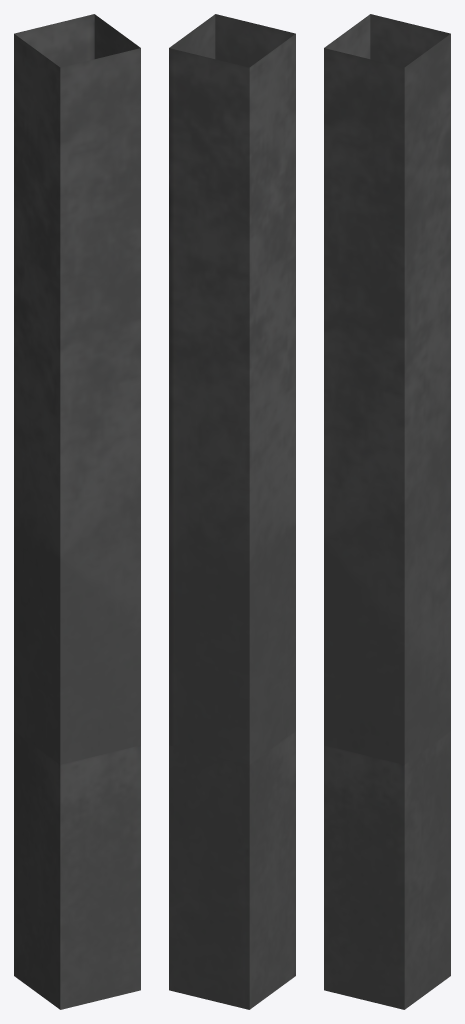
Rendered from pole_roof_50cm.obj.
The picture shows the model from 3 angles, left to right: view 1: azimuth 30°, elevation 25°; view 2: azimuth 150°, elevation 25°; view 3: azimuth 330°, elevation 25°; orthographic projection.
Visible parts, largest first — view 1: pole_r50, pole_end_r50; view 2: pole_r50, pole_end_r50; view 3: pole_r50, pole_end_r50.
Part boxes in pixels (x1,y1,x2,y2): pole_r50: (14, 14, 140, 764); pole_end_r50: (14, 731, 140, 1009); pole_r50: (169, 14, 295, 764); pole_end_r50: (169, 731, 295, 1009); pole_r50: (324, 14, 450, 764); pole_end_r50: (324, 731, 450, 1009).
Size of the model in its own units: 0.0604 by 0.6758 by 0.0604.
1 material, 1 textured.
